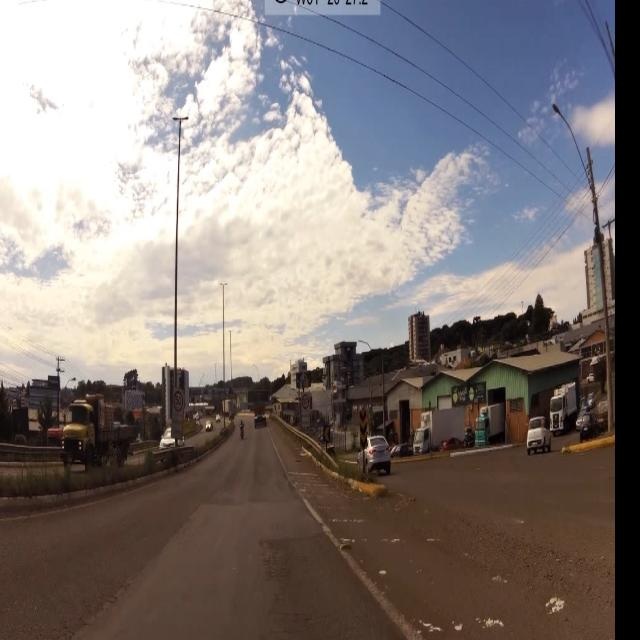MP: (359, 408, 369, 449)
